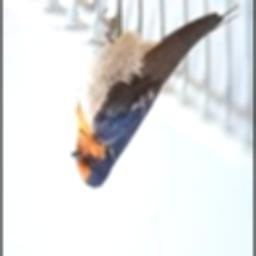Swallow: (71, 4, 240, 188)
